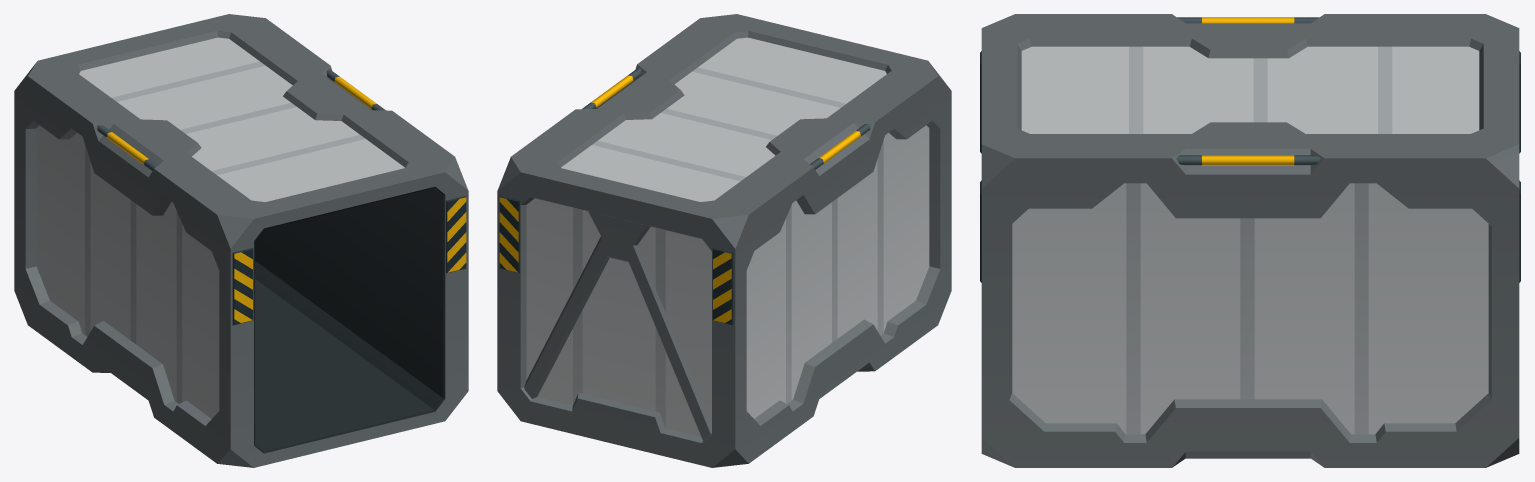
Rendered from Container_type_B_003.fbx.
3 renders of one model, left to right at view 1: azimuth 30°, elevation 25°; view 2: azimuth 150°, elevation 25°; view 3: azimuth 270°, elevation 25°, orthographic. The views are drawn at different scales.
Parts seen in each view (by area): view 1: Container_type_B_003; view 2: Container_type_B_003; view 3: Container_type_B_003.
Boxes of the visible parts, left/top/right/bottom form: Container_type_B_003: left=14, top=14, right=468, bottom=467; Container_type_B_003: left=497, top=14, right=951, bottom=467; Container_type_B_003: left=980, top=14, right=1520, bottom=467.
Size of the model in its own units: 240 by 380 by 240.
